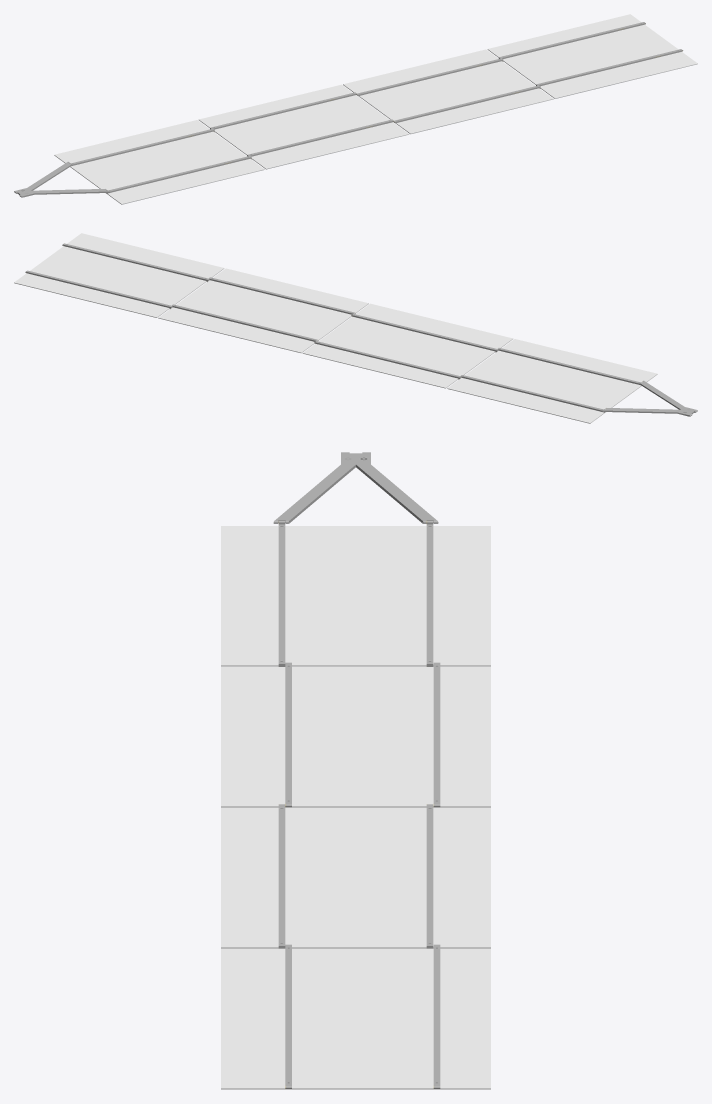
The model's file is leftPanel.glb.
3 views of the same model, one above another, from view 1: azimuth 30°, elevation 25°; view 2: azimuth 150°, elevation 25°; view 3: azimuth 270°, elevation 25° (orthographic). The views are drawn at different scales.
Parts seen in each view (by area): view 1: SmallSat_SolarPanel_R3, SmallSat_SolarPanel_R2, SmallSat_SolarPanel_R4, SmallSat_SolarPanel_R1, SmallSat_Yoke_R; view 2: SmallSat_SolarPanel_R4, SmallSat_SolarPanel_R3, SmallSat_SolarPanel_R2, SmallSat_SolarPanel_R1, SmallSat_Yoke_R; view 3: SmallSat_SolarPanel_R4, SmallSat_SolarPanel_R3, SmallSat_SolarPanel_R1, SmallSat_SolarPanel_R2, SmallSat_Yoke_R.
Part boxes in pixels (left/top/right/bottom): SmallSat_SolarPanel_R3: left=343, top=49, right=553, bottom=134; SmallSat_SolarPanel_R2: left=198, top=84, right=409, bottom=169; SmallSat_SolarPanel_R4: left=487, top=14, right=697, bottom=98; SmallSat_SolarPanel_R1: left=54, top=120, right=264, bottom=204; SmallSat_Yoke_R: left=14, top=161, right=109, bottom=197; SmallSat_SolarPanel_R4: left=14, top=233, right=224, bottom=317; SmallSat_SolarPanel_R3: left=158, top=268, right=368, bottom=353; SmallSat_SolarPanel_R2: left=302, top=303, right=513, bottom=388; SmallSat_SolarPanel_R1: left=447, top=339, right=657, bottom=423; SmallSat_Yoke_R: left=602, top=380, right=697, bottom=416; SmallSat_SolarPanel_R4: left=221, top=944, right=490, bottom=1089; SmallSat_SolarPanel_R3: left=221, top=804, right=490, bottom=948; SmallSat_SolarPanel_R1: left=221, top=520, right=490, bottom=666; SmallSat_SolarPanel_R2: left=221, top=662, right=490, bottom=807; SmallSat_Yoke_R: left=273, top=452, right=438, bottom=523.
Size of the model in its own units: 4.99 by 0.03 by 0.9.
Materials: 1 (1 with a texture image).
